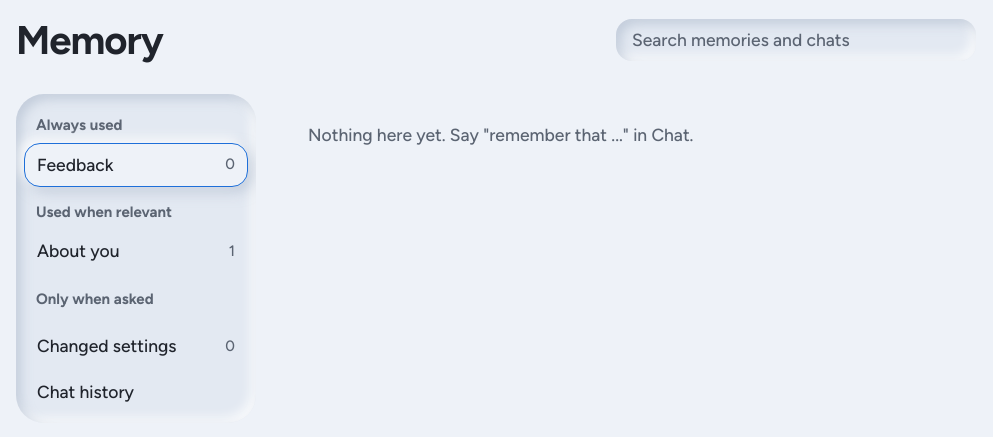
Test case: Memory page: search and chat history › search › finds a memory and a chat turn, each with its folder or Conversation date
In the search field named "Search memory": (796, 40) 632,27 -> 960,53, type "run"
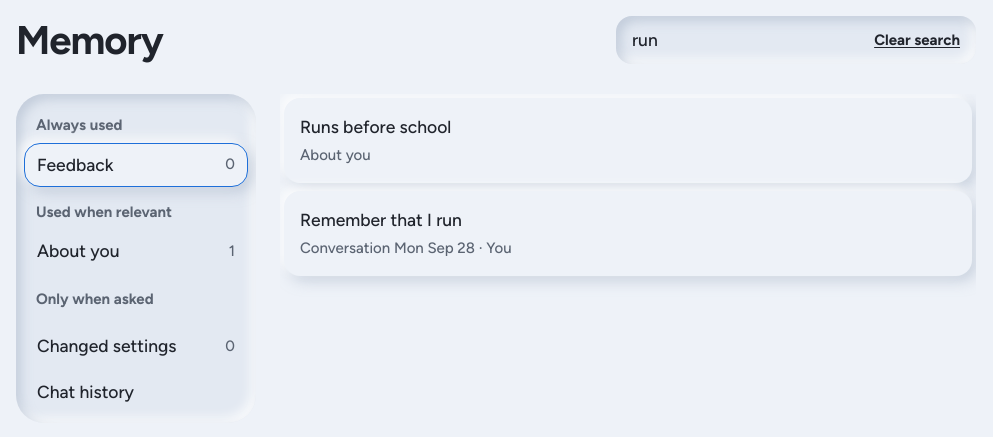
Check: the button "Runs before school About you" is shown, box 284,98 -> 972,183
Check: the button "Remember that I run Conversation Mon Sep 28 · You" is shown, box 284,191 -> 972,276
